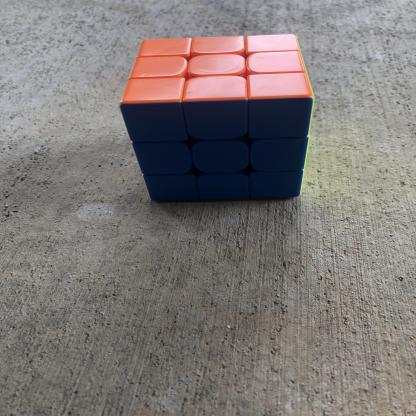SolvedCube: (110, 25, 322, 222)
